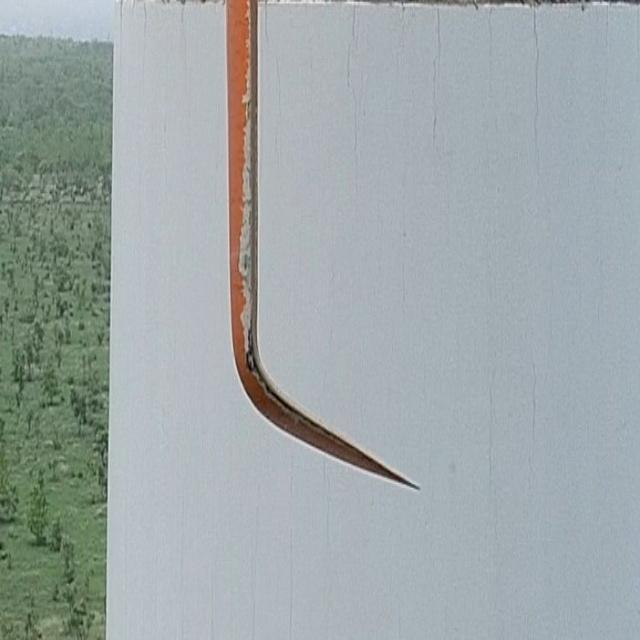EROSION: (244, 357, 340, 443), (234, 200, 268, 362)
